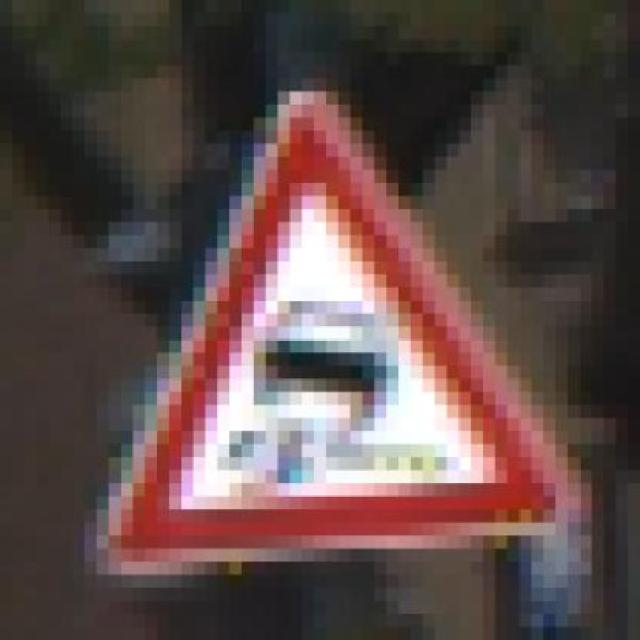Slippery Road Ahead: (84, 78, 604, 588)
